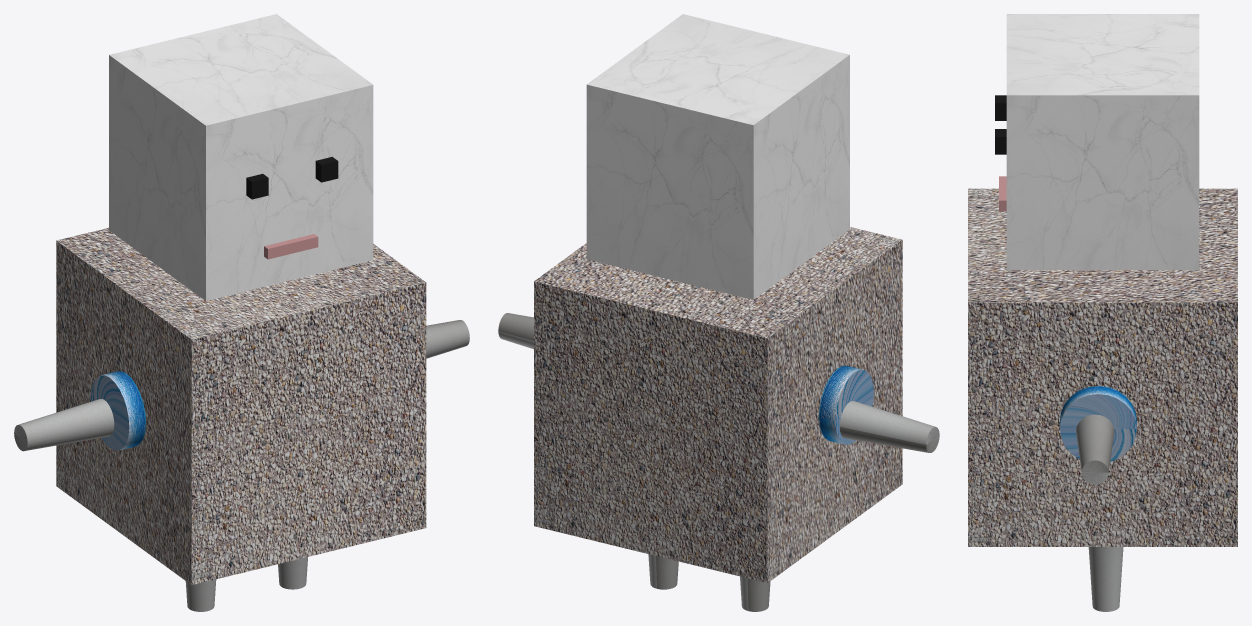
Rendered from 機器人.fbx.
3 views of the same model, side by side, from view 1: azimuth 30°, elevation 25°; view 2: azimuth 150°, elevation 25°; view 3: azimuth 270°, elevation 25° (orthographic).
Parts seen in each view (by area): view 1: 身體, 頭, 左手, 左手腕, 右手, 左腳, 右腳, 嘴吧; view 2: 身體, 頭, 左手, 左手腕, 右手, 左腳, 右腳; view 3: 身體, 頭, 右手腕, 右手, 右腳.
Boxes of the visible parts, x1,y1,x2,y2 form: 身體: (56, 227, 426, 585); 頭: (109, 14, 373, 300); 左手: (14, 399, 114, 451); 左手腕: (90, 371, 145, 450); 右手: (426, 320, 469, 358); 左腳: (185, 579, 216, 611); 右腳: (278, 557, 307, 589); 嘴吧: (264, 234, 318, 259); 身體: (534, 227, 902, 582); 頭: (586, 14, 849, 299); 左手: (839, 401, 939, 452); 左手腕: (818, 365, 873, 444); 右手: (498, 313, 533, 349); 左腳: (740, 576, 770, 611); 右腳: (648, 554, 678, 589); 身體: (968, 188, 1237, 546); 頭: (1006, 14, 1199, 269); 右手腕: (1060, 386, 1136, 461); 右手: (1076, 414, 1114, 484); 右腳: (1088, 547, 1123, 611).
Size of the model in its own units: 51.18 by 59.25 by 27.56.
Materials: 7 (4 with a texture image).
